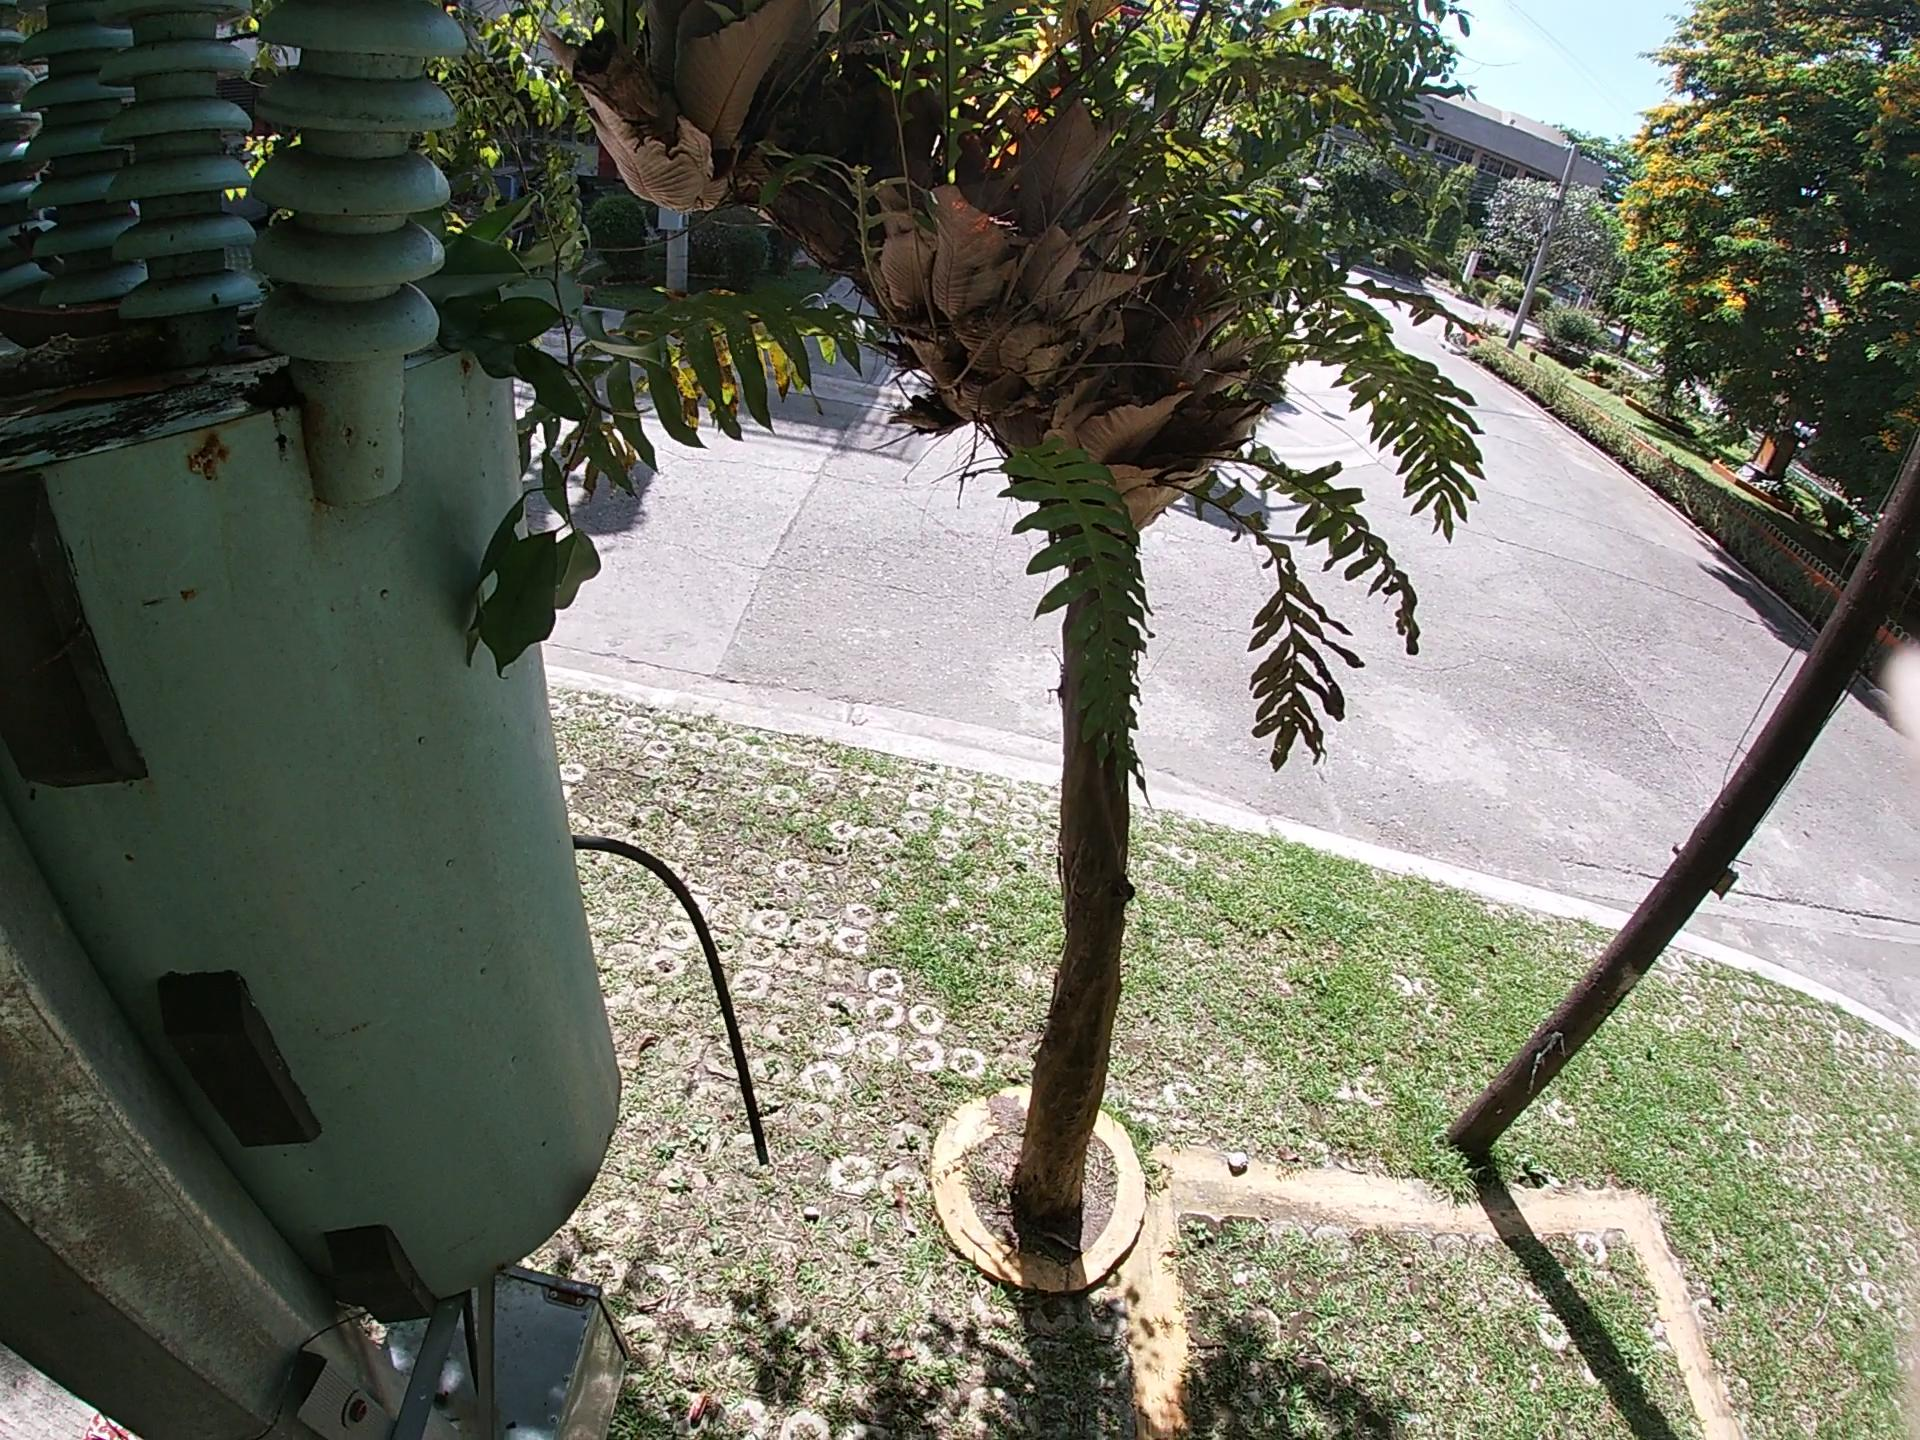branch with leaves: (426, 166, 652, 712)
leaf: (23, 390, 231, 408)
mahogany fruit: (3, 284, 130, 321)
tree branch: (2, 345, 138, 374)
